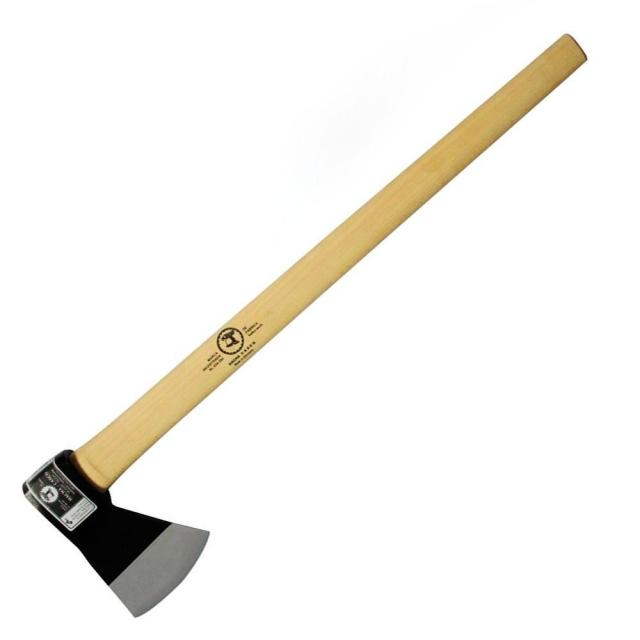Kapak: (14, 13, 586, 610)
